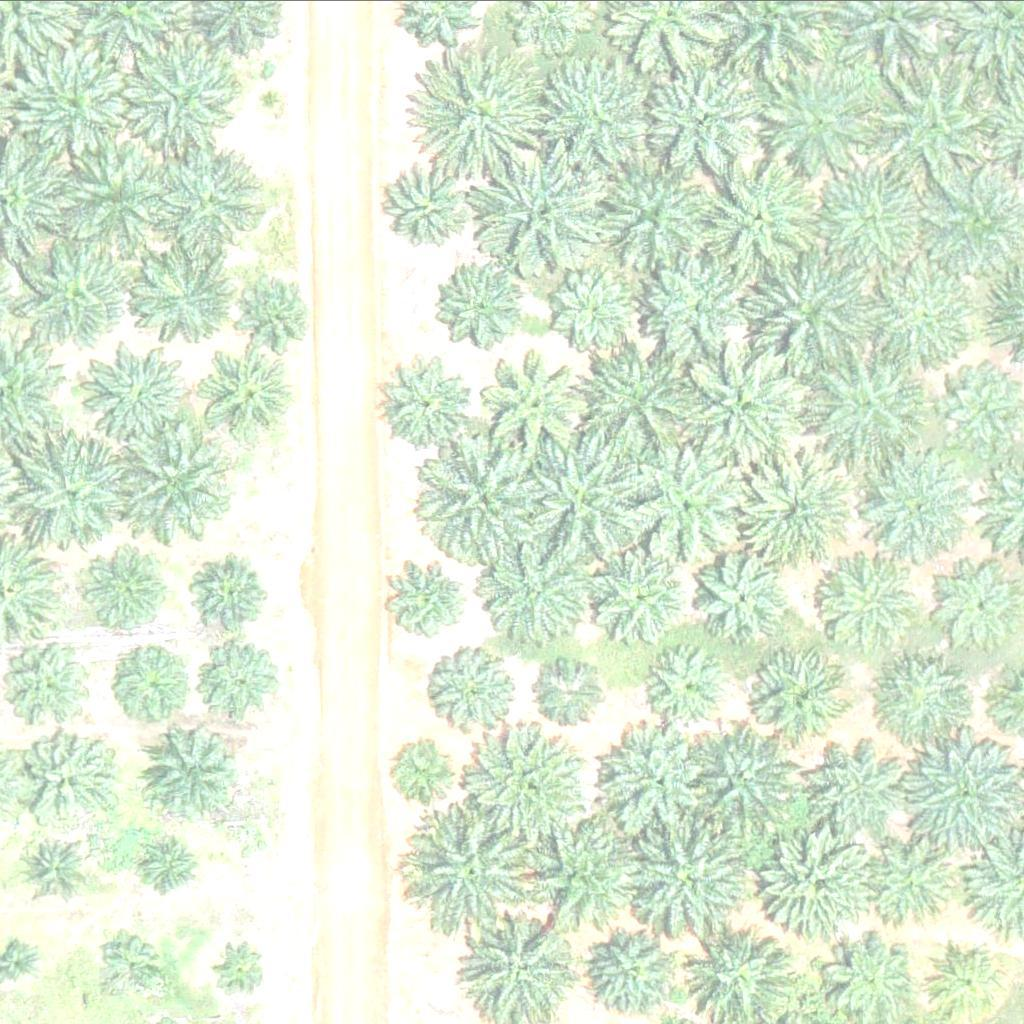Kelapa_Sawit: (422, 51, 548, 176), (880, 64, 1006, 189), (480, 144, 606, 269), (681, 336, 807, 461), (421, 437, 547, 562), (416, 807, 542, 932), (515, 433, 640, 558), (743, 455, 857, 568), (471, 719, 585, 832), (544, 59, 657, 172), (821, 160, 934, 273), (705, 157, 818, 270), (752, 259, 865, 372), (814, 345, 927, 458), (628, 444, 741, 557), (476, 530, 589, 643), (906, 737, 1019, 850), (534, 816, 647, 929), (635, 825, 748, 938), (755, 828, 868, 941), (160, 142, 273, 255), (57, 140, 170, 253), (11, 238, 124, 351), (113, 428, 226, 541), (765, 57, 878, 169), (599, 164, 712, 276), (868, 261, 981, 373), (581, 344, 694, 456), (866, 454, 979, 566), (686, 720, 799, 832), (599, 725, 712, 837), (13, 44, 126, 156), (128, 41, 241, 153), (89, 337, 202, 449), (13, 438, 126, 550), (653, 71, 754, 171), (647, 256, 748, 356), (490, 349, 591, 449), (379, 351, 480, 451), (793, 734, 894, 834), (577, 914, 678, 1014), (131, 245, 232, 345), (144, 725, 245, 825), (755, 645, 855, 745), (475, 919, 575, 1019), (433, 647, 522, 735), (591, 556, 679, 644), (645, 646, 733, 734), (869, 847, 957, 935), (201, 353, 289, 441), (29, 734, 117, 822), (387, 556, 475, 643), (821, 554, 909, 641), (695, 555, 783, 642), (876, 653, 964, 740), (82, 549, 170, 636), (538, 658, 614, 733), (396, 169, 472, 244), (444, 268, 520, 343), (561, 270, 637, 345), (947, 563, 1023, 638), (198, 553, 274, 628), (20, 645, 96, 720), (202, 642, 278, 717), (937, 369, 1012, 444), (125, 657, 188, 720), (143, 833, 206, 896), (390, 736, 453, 799), (98, 938, 161, 1001), (242, 283, 305, 346), (220, 945, 271, 995), (28, 843, 78, 893), (1, 943, 39, 980)
